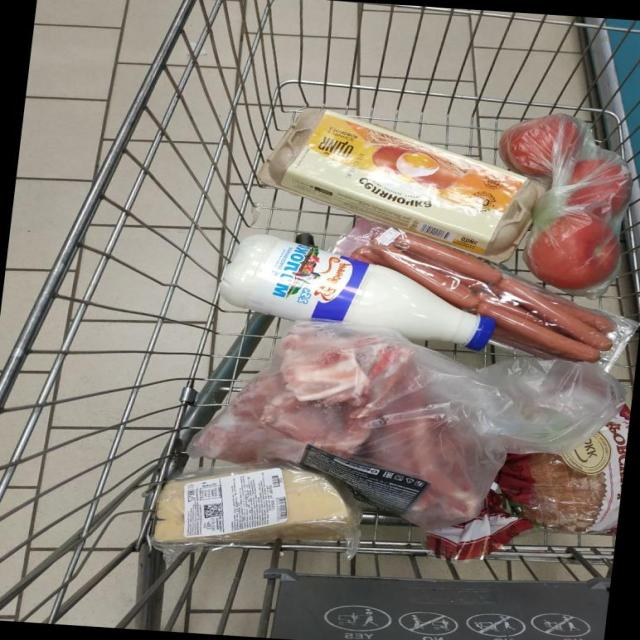Bread: (427, 406, 630, 559)
Cheese: (153, 465, 360, 555)
Eggs: (258, 108, 542, 261)
Meat: (191, 320, 484, 528)
Milk: (218, 233, 494, 349)
Sausages: (333, 219, 638, 370)
Tomatoes: (524, 212, 620, 289), (498, 113, 585, 185), (567, 156, 629, 216)
